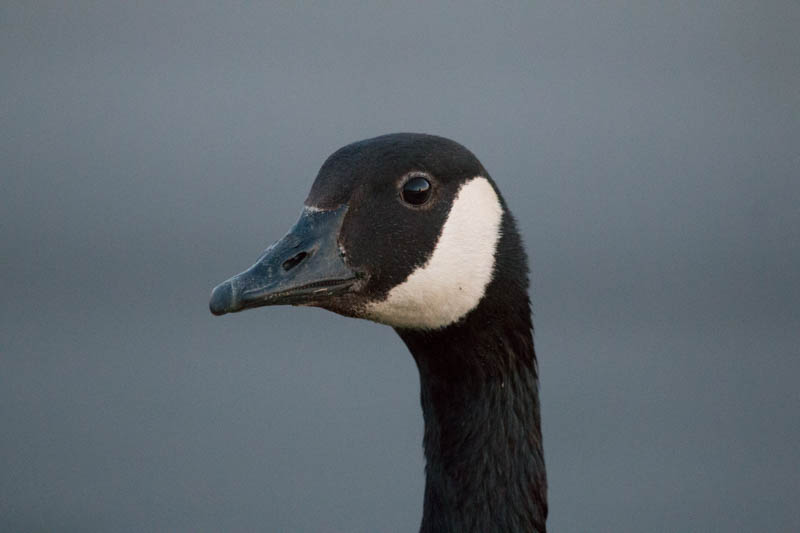goose-head: (207, 132, 529, 330)
